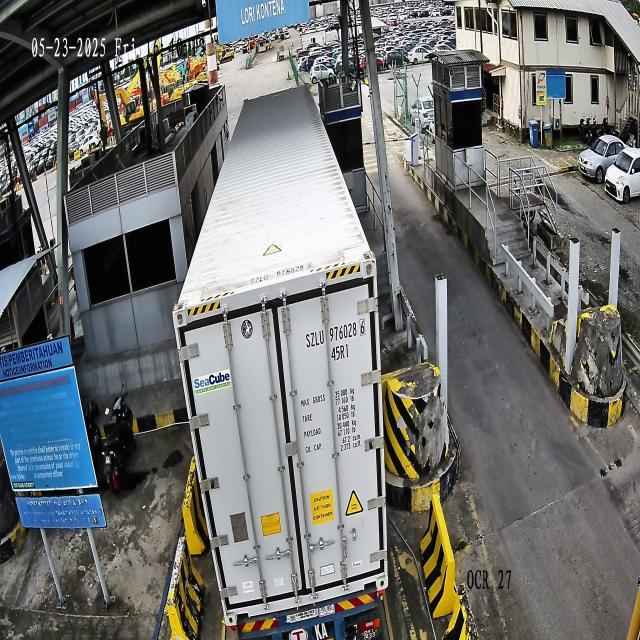ISO: (330, 342, 350, 362)
container_number: (305, 318, 366, 350)
